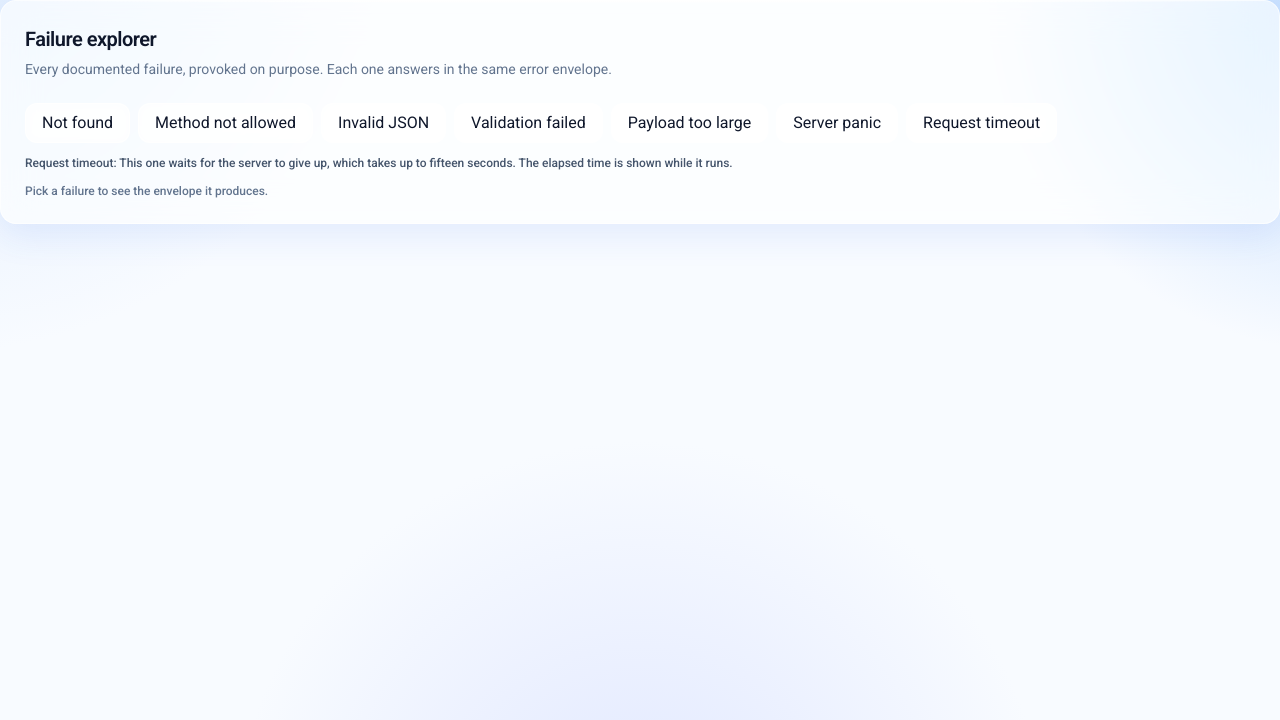
Test case: FailureExplorerPanel › notes that a timeout on the slow route was the expected outcome
This screenshot has width=1280, height=720.
Click the button "Request timeout" at (982, 123), box x1=906 y1=103 x2=1057 y2=143
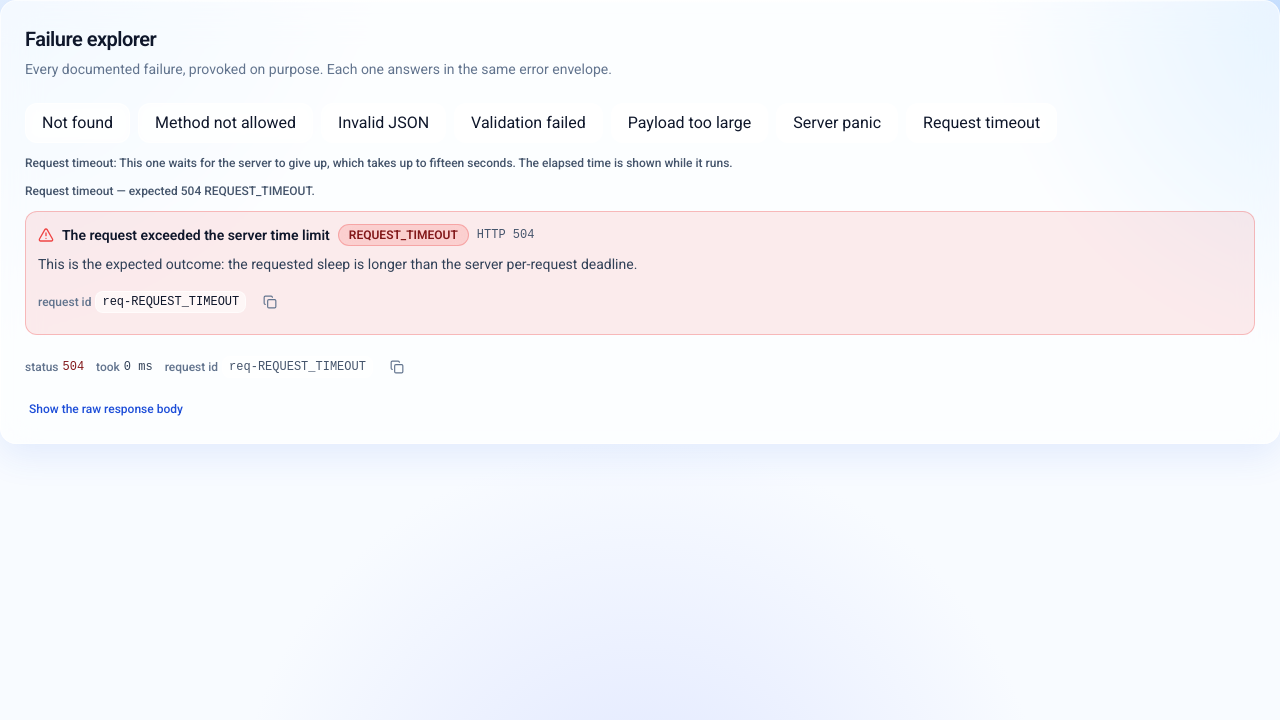
Check: the text "The request exceeded the server time limit" is shown, box x1=62 y1=225 x2=330 y2=245
Check: the message shows "expected outcome", box x1=38 y1=256 x2=637 y2=272
